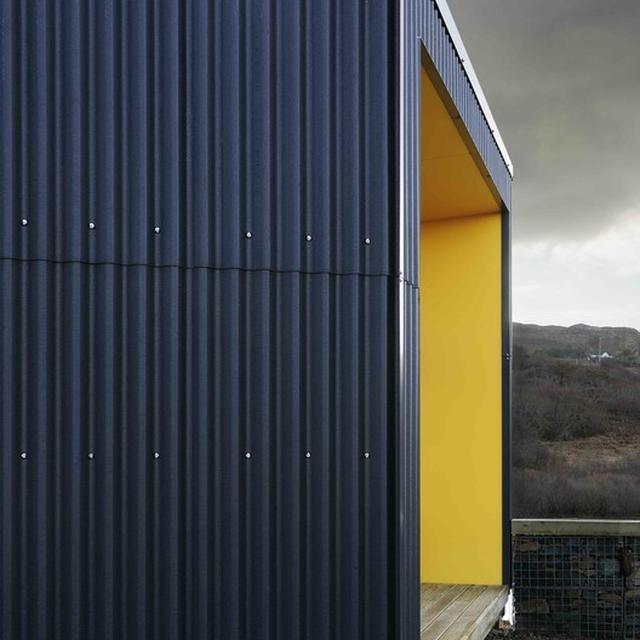building: (4, 0, 514, 640)
